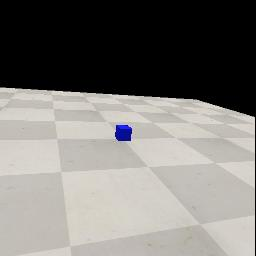box: (115, 125, 132, 141)
